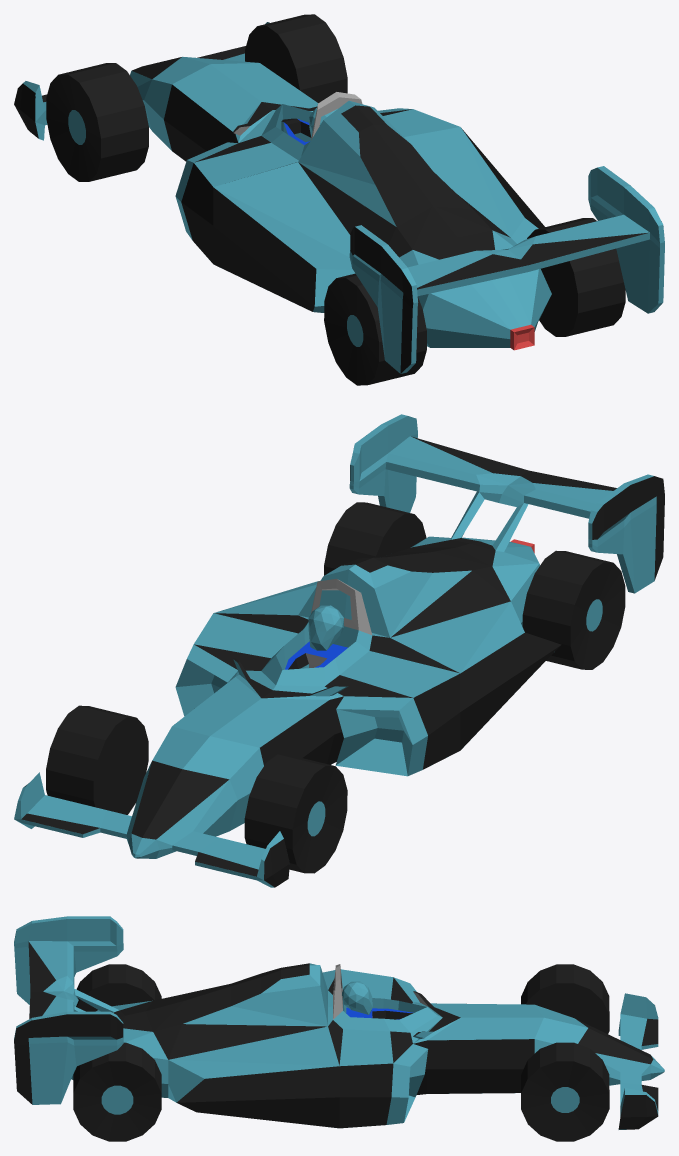
The model's file is car.glb.
3 views of the same model, one above another, from view 1: azimuth 30°, elevation 25°; view 2: azimuth 150°, elevation 25°; view 3: azimuth 270°, elevation 25° (orthographic). The views are drawn at different scales.
Parts seen in each view (by area): view 1: WheelFront.011_BackLight_0, WheelFront.011_black_0, WheelFront.001_black_0, WheelFront.003_black_0, WheelFront.000_black_0, WheelFront.002_black_0, WheelFront.011_Glass_0, WheelFront.011_glossyorange_0; view 2: WheelFront.011_BackLight_0, WheelFront.011_black_0, WheelFront.002_black_0, WheelFront.000_black_0, WheelFront.001_black_0, WheelFront.003_black_0, WheelFront.011_Glass_0; view 3: WheelFront.011_BackLight_0, WheelFront.011_black_0, WheelFront.000_black_0, WheelFront.003_black_0, WheelFront.001_black_0, WheelFront.002_black_0, WheelFront.000_BackLight_0, WheelFront.011_Glass_0.
Boxes of the visible parts, left/top/right/bottom form: WheelFront.011_BackLight_0: left=23, top=22, right=664, bottom=373; WheelFront.011_black_0: left=14, top=46, right=661, bottom=373; WheelFront.001_black_0: left=46, top=63, right=148, bottom=181; WheelFront.003_black_0: left=527, top=218, right=625, bottom=336; WheelFront.000_black_0: left=245, top=14, right=347, bottom=102; WheelFront.002_black_0: left=324, top=273, right=426, bottom=385; WheelFront.011_Glass_0: left=234, top=92, right=362, bottom=139; WheelFront.011_glossyorange_0: left=510, top=324, right=534, bottom=350; WheelFront.011_BackLight_0: left=14, top=414, right=656, bottom=887; WheelFront.011_black_0: left=21, top=436, right=664, bottom=887; WheelFront.002_black_0: left=522, top=550, right=625, bottom=669; WheelFront.000_black_0: left=46, top=705, right=148, bottom=814; WheelFront.001_black_0: left=244, top=754, right=347, bottom=873; WheelFront.003_black_0: left=324, top=502, right=426, bottom=575; WheelFront.011_Glass_0: left=305, top=578, right=371, bottom=667; WheelFront.011_BackLight_0: left=14, top=916, right=664, bottom=1129; WheelFront.011_black_0: left=14, top=941, right=658, bottom=1129; WheelFront.000_black_0: left=521, top=1042, right=609, bottom=1141; WheelFront.003_black_0: left=73, top=1042, right=161, bottom=1141; WheelFront.001_black_0: left=521, top=964, right=609, bottom=1033; WheelFront.002_black_0: left=76, top=964, right=161, bottom=1011; WheelFront.000_BackLight_0: left=551, top=1087, right=579, bottom=1112; WheelFront.011_Glass_0: left=333, top=964, right=428, bottom=1019.
Bounding box in the file's own units: 83.79 × 49.93 × 230.
3 materials, 3 textured.
